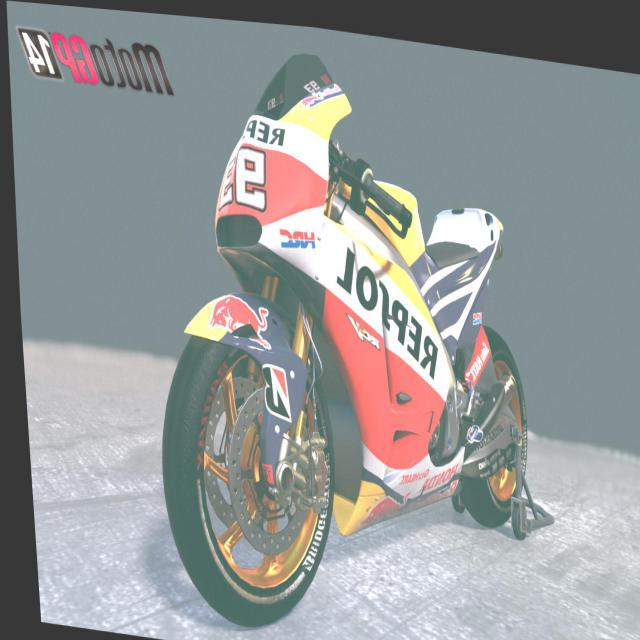HRC RCV 213: (132, 23, 564, 639)
